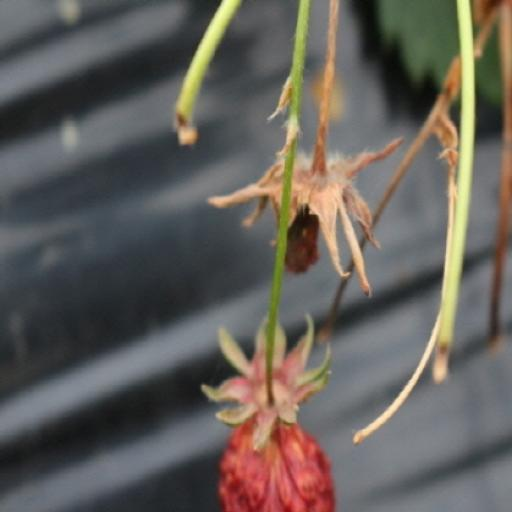Gray Mold: (207, 136, 402, 298)
